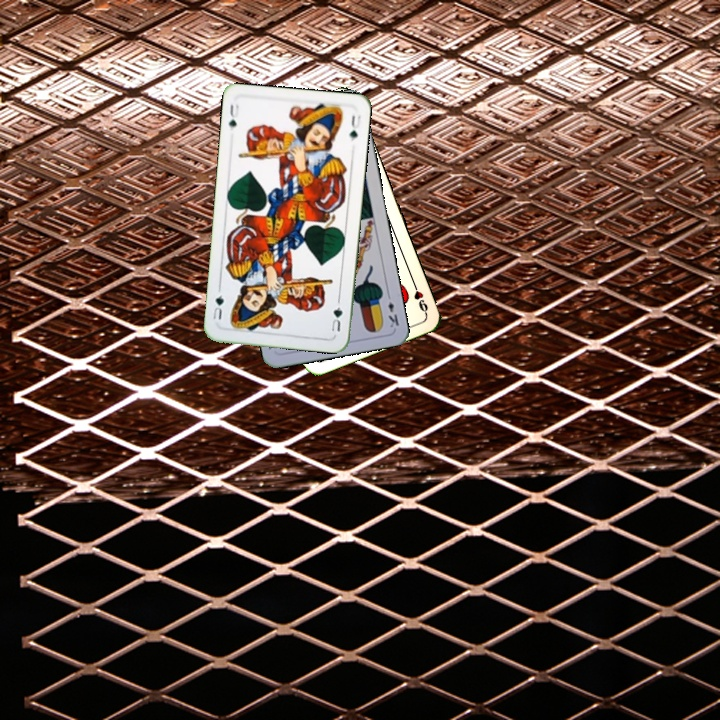EK: (383, 289, 402, 330)
GU: (327, 303, 345, 334), (224, 99, 242, 130)
H9: (408, 277, 431, 316)
